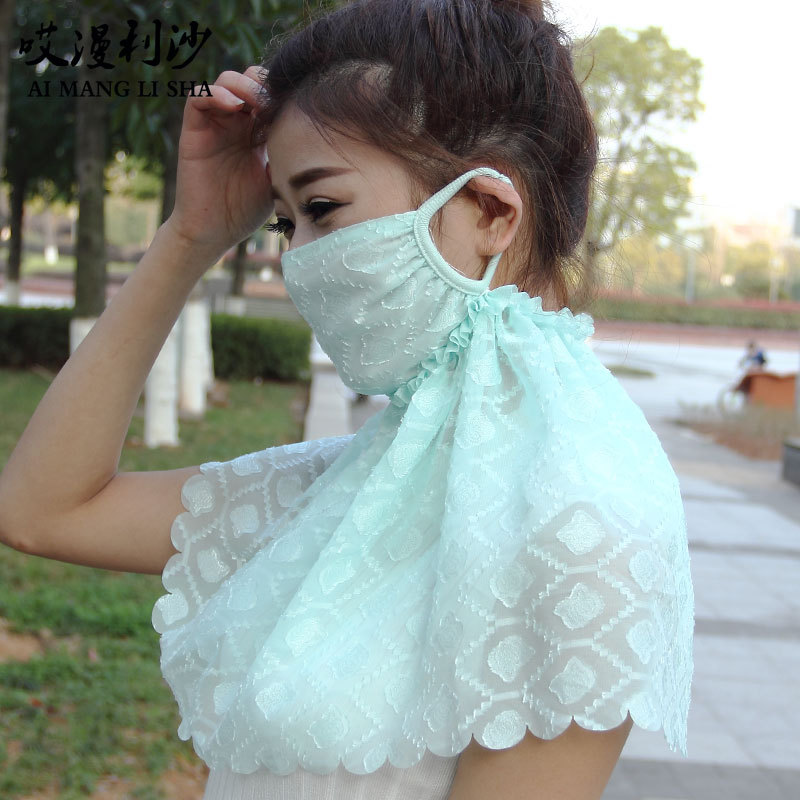face_mask: (274, 94, 457, 383)
